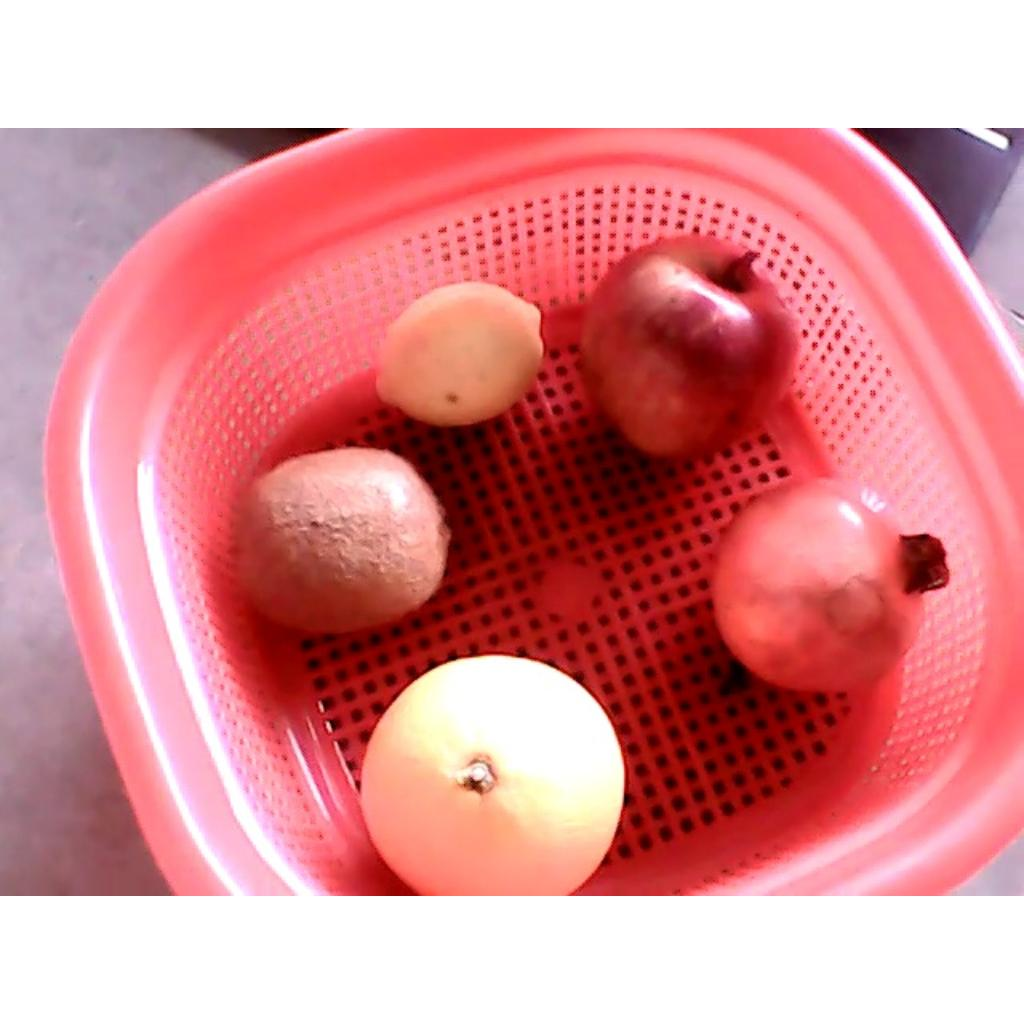apple: (578, 234, 805, 461)
kiwi: (235, 449, 449, 632)
lemon: (372, 281, 545, 428)
orange: (357, 654, 622, 894)
pomegranate: (709, 476, 950, 694)
